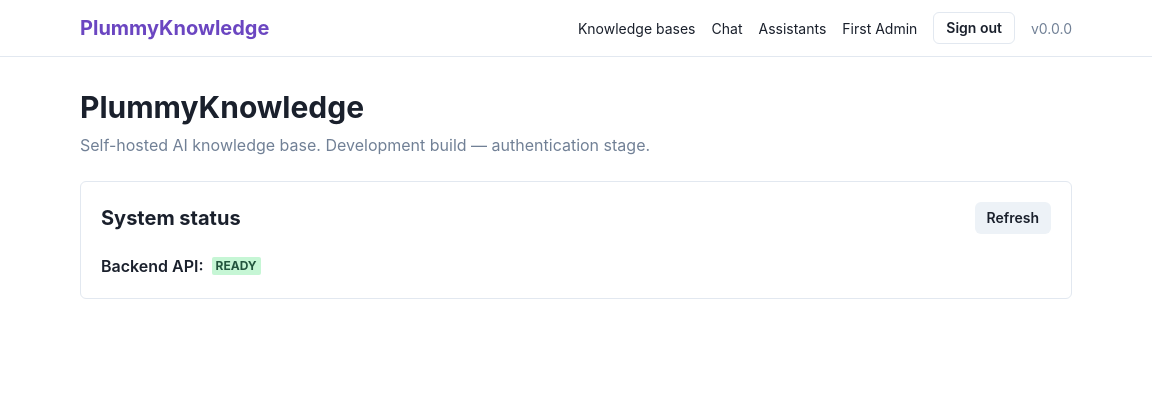
Scenario: routes › signs out with the CSRF token and forgets the session
The width and height of the screenshot is (1152, 416).
Click the button "Sign out": point(974, 28) [933,12,1015,44]
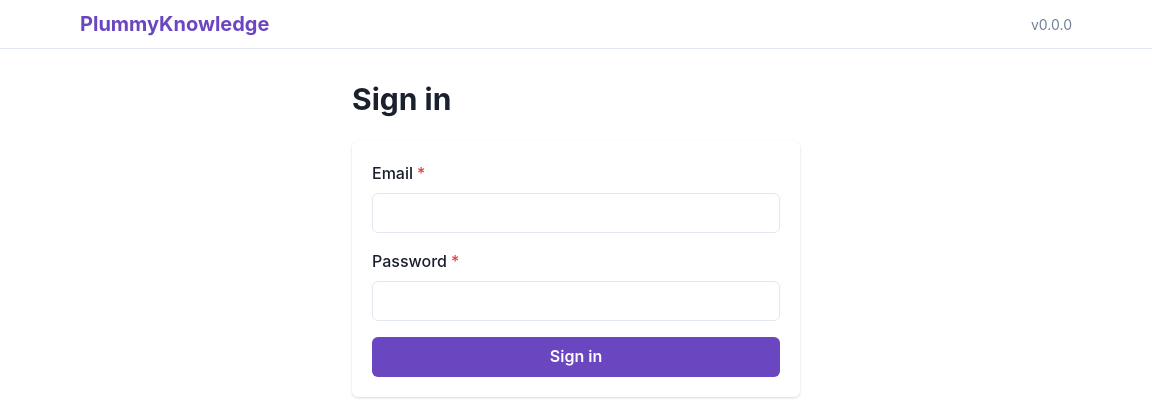
Now the link with test id "current-user" is gone
